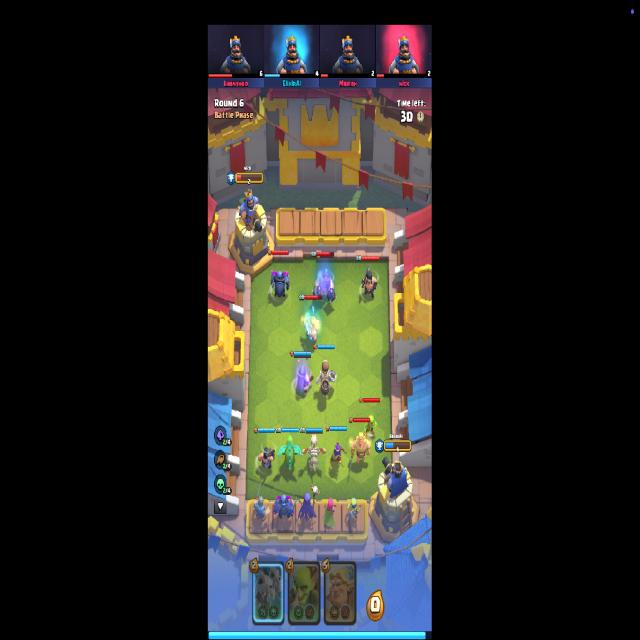archer: (322, 500, 338, 529)
baby_dragon: (278, 434, 301, 474)
card_goblin: (287, 561, 321, 626)
card_golden_knight: (324, 561, 356, 626)
card_skeleton_dragon: (252, 560, 284, 626)
executioner: (256, 442, 276, 474)
knight: (253, 482, 271, 526)
pekka: (272, 493, 296, 522)
skeleton_dragon: (304, 432, 326, 474)
spear_goblin: (346, 497, 362, 526)
witch: (297, 487, 318, 522)
